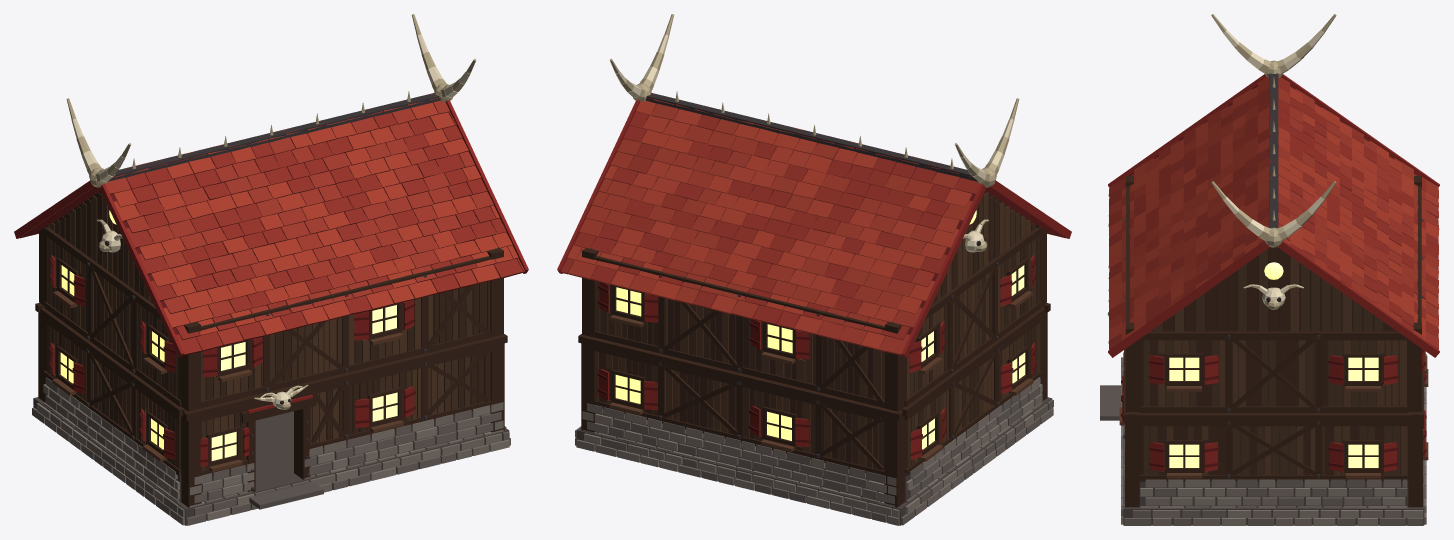
File: house_library.glb
3 renders of one model, left to right at view 1: azimuth 30°, elevation 25°; view 2: azimuth 150°, elevation 25°; view 3: azimuth 270°, elevation 25°, orthographic.
Visible parts, largest first — view 1: library_roof, library_S_hi, library_base, library_US_lo, library_US_hi, library_S_lo, library_W_hi, library_UW_hi, library_UW_lo, library_W_lo; view 2: library_roof, library_N_hi, library_UN_lo, library_UN_hi, library_N_lo, library_base, library_W_hi, library_UW_hi, library_UW_lo, library_W_lo; view 3: library_roof, library_E_hi, library_UE_hi, library_UE_lo, library_E_lo, library_base, library_US_hi, library_UN_hi, library_N_hi, library_S_hi, library_US_lo, library_UN_lo (+2 smaller).
Part boxes in pixels (box(x1,y1,x2,y2)): library_roof: box(14, 14, 528, 357); library_S_hi: box(180, 343, 504, 477); library_base: box(32, 397, 510, 525); library_US_lo: box(181, 306, 507, 420); library_US_hi: box(181, 247, 503, 387); library_S_lo: box(181, 401, 504, 507); library_W_hi: box(43, 317, 181, 472); library_UW_hi: box(44, 227, 180, 377); library_UW_lo: box(40, 280, 184, 416); library_W_lo: box(43, 374, 181, 502); library_roof: box(557, 14, 1071, 357); library_N_hi: box(581, 343, 906, 477); library_UN_lo: box(578, 306, 905, 420); library_UN_hi: box(582, 248, 905, 403); library_N_lo: box(581, 401, 904, 507); library_base: box(575, 397, 1053, 525); library_W_hi: box(904, 317, 1042, 472); library_UW_hi: box(906, 227, 1041, 375); library_UW_lo: box(901, 279, 1045, 416); library_W_lo: box(904, 374, 1042, 502); library_roof: box(1108, 14, 1439, 357); library_E_hi: box(1139, 421, 1408, 478); library_UE_hi: box(1139, 331, 1408, 409); library_UE_lo: box(1136, 383, 1411, 421); library_E_lo: box(1139, 479, 1408, 508); library_base: box(1100, 352, 1426, 525); library_US_hi: box(1124, 176, 1142, 383); library_UN_hi: box(1407, 176, 1425, 383); library_N_hi: box(1407, 351, 1428, 477); library_S_hi: box(1107, 312, 1142, 477); library_US_lo: box(1124, 349, 1142, 421); library_UN_lo: box(1407, 355, 1427, 421).
Bounding box in the file's own units: 11.88 × 11.03 × 9.72.
